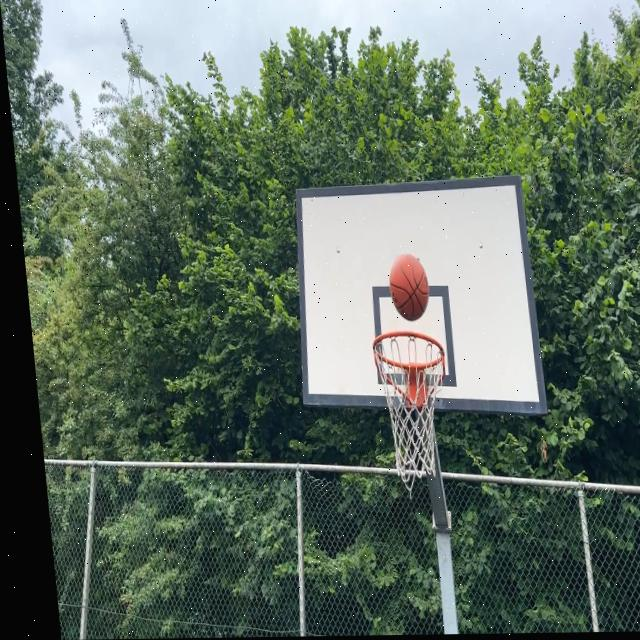Basketball: (385, 253, 432, 320)
